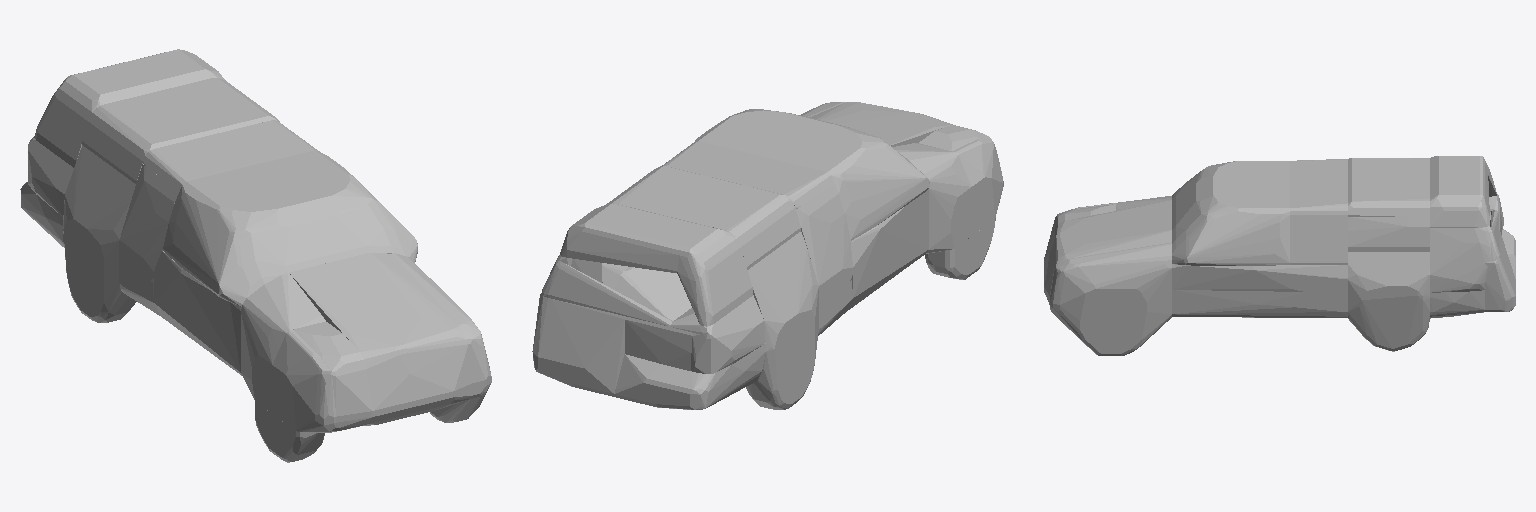
robot.urdf — root:
<robot name="root">
  <link name="link_001">
    <visual>
      <origin xyz="0 0 0" rpy="0 0 0"/>
      <geometry>
        <mesh filename="decomposed.obj" scale="1.0000E+00 1.0000E+00 1.0000E+00"/>
      </geometry>
      <material name="">
        <color rgba="7.50E-01 7.50E-01 7.50E-01 1"/>
      </material>
    </visual>
    <collision>
      <origin xyz="0 0 0" rpy="0 0 0"/>
      <geometry>
        <mesh filename="decomposed.obj" scale="1.0000E+00 1.0000E+00 1.0000E+00"/>
      </geometry>
    </collision>
  </link>
</robot>

--- Render facts (derived) ---
3 views of the same robot in one strip: view 1: azimuth 30°, elevation 25°; view 2: azimuth 150°, elevation 25°; view 3: azimuth 270°, elevation 25° (orthographic).
Model root with 1 links and 0 joints (none), rooted at link_001, posed every joint at zero.
Links seen in each view (by area): view 1: link_001; view 2: link_001; view 3: link_001.
Boxes of the visible links, <box> form: link_001: <box>20,49,491,462</box>; link_001: <box>532,102,1003,409</box>; link_001: <box>1044,156,1515,355</box>.
Size in the robot's own frame: 0.692 by 1.87 by 0.6513 metres.
1 mesh visuals loaded from 1 distinct referenced files (1 OBJ).